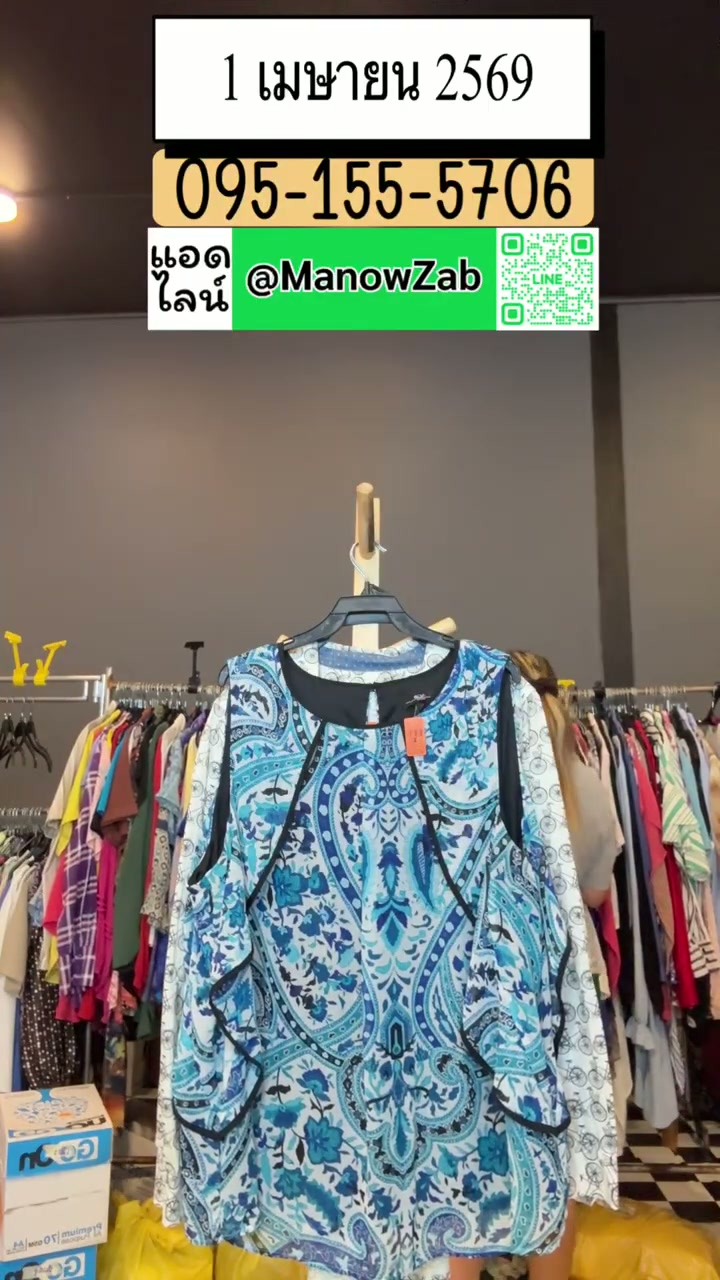display_shirt: (165, 640, 615, 1279)
